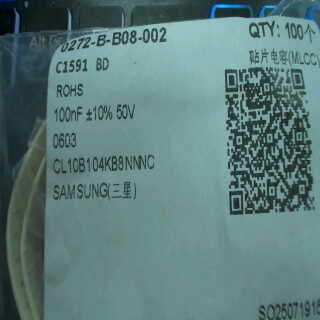100nF: (50, 102, 85, 127)
